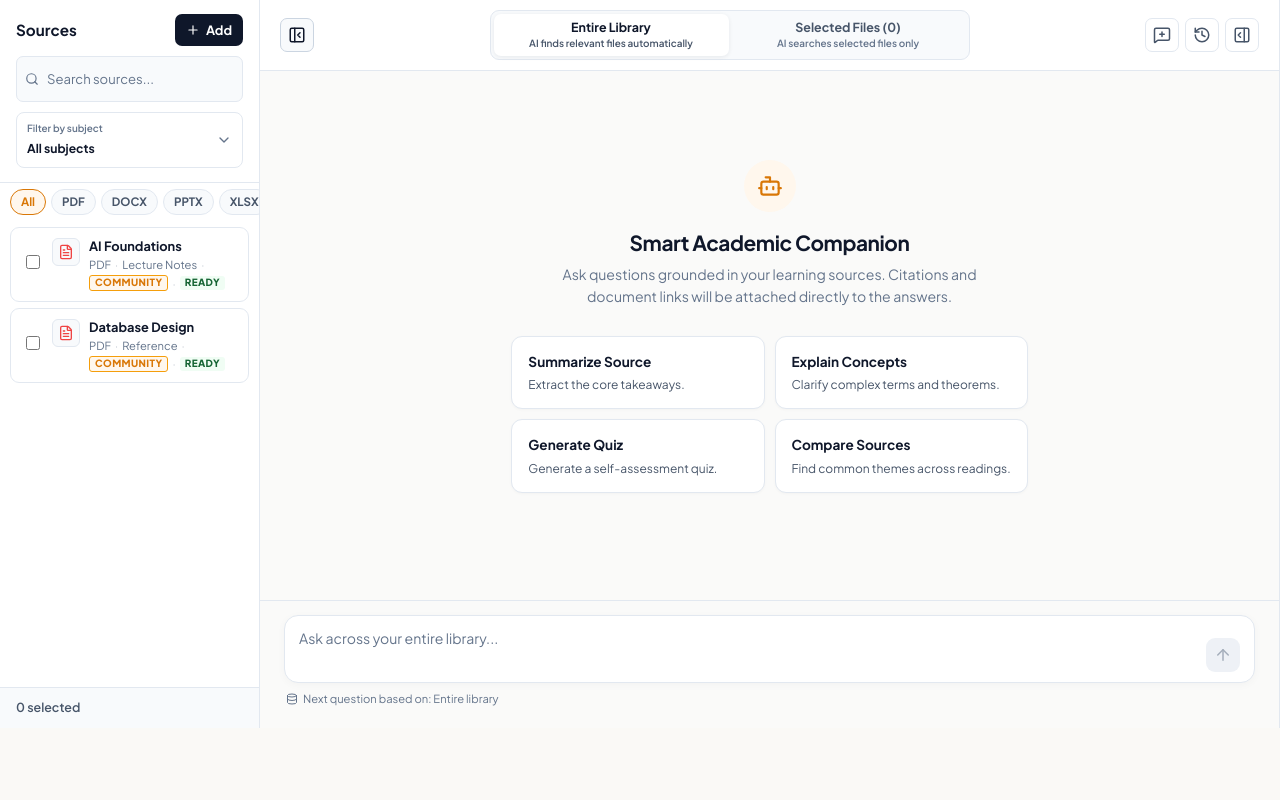
Test: AiChatbotView subject filter › loads a past conversation from the history dropdown
The width and height of the screenshot is (1280, 800).
Check: the text "AI Foundations" is shown, box [89, 238, 182, 254]
Click the button named "Chat history" at (1202, 35), box [1185, 18, 1219, 52]
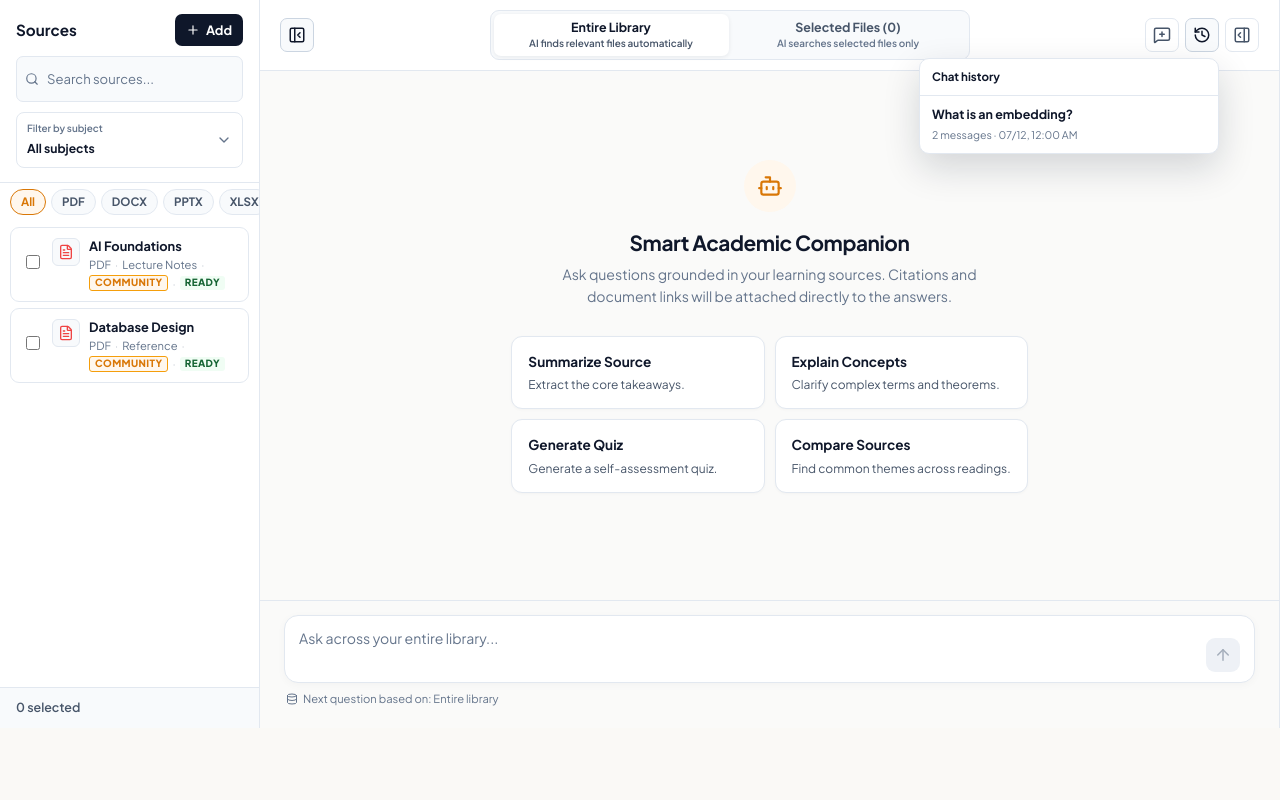
Click the text "What is an embedding?" at (1003, 115), box [932, 105, 1073, 125]
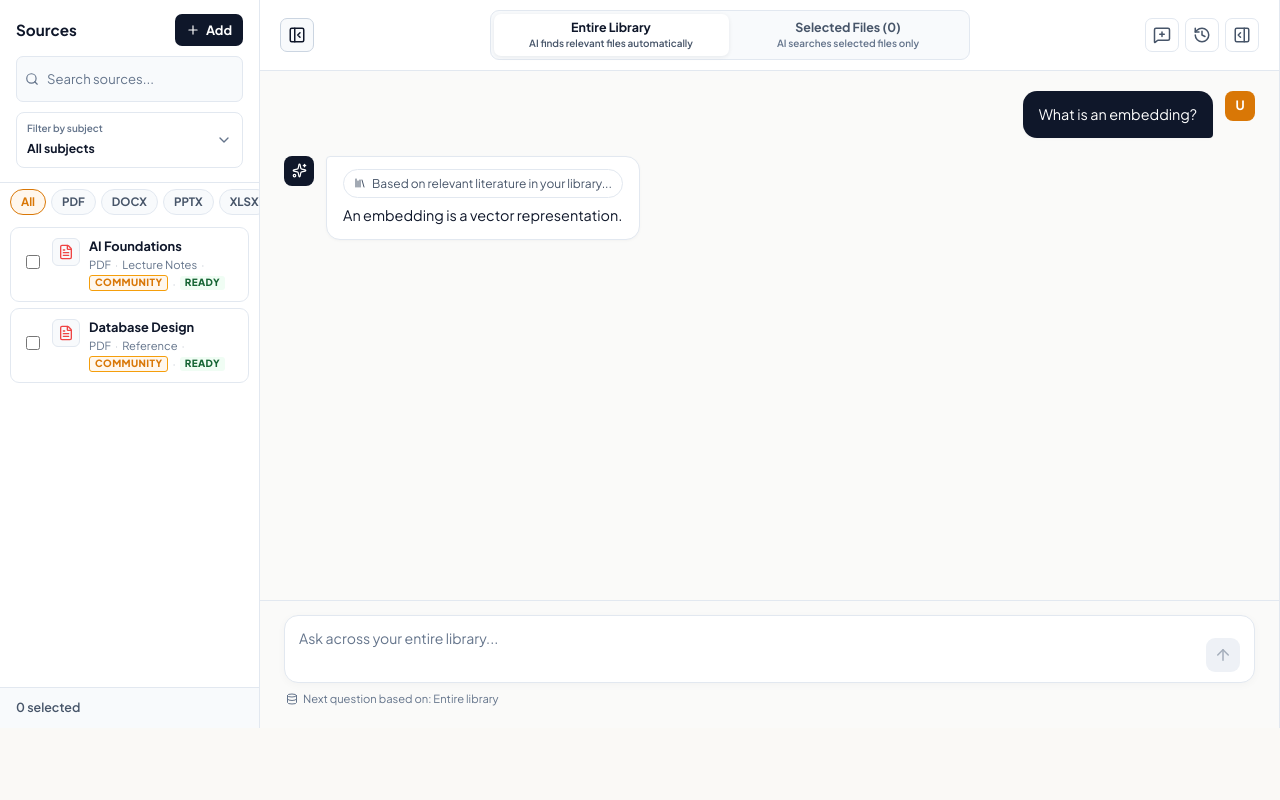
Check: the text "An embedding is a vector representation." is shown, box [343, 204, 623, 227]
